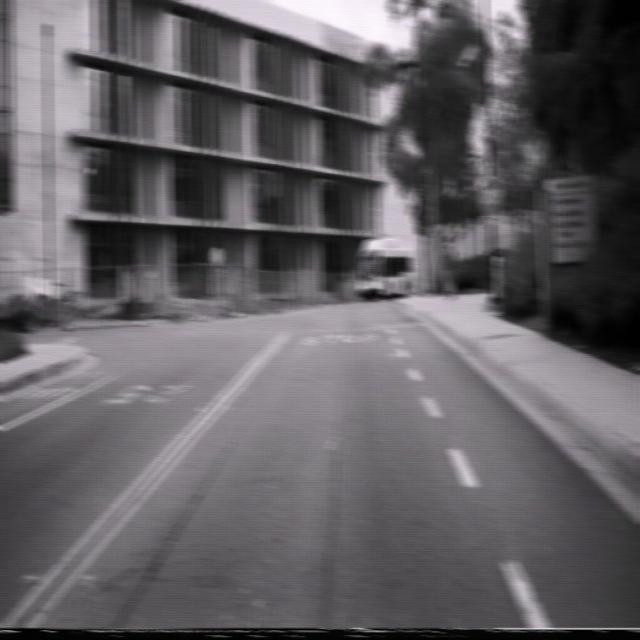stop_sign: (478, 174, 502, 218)
